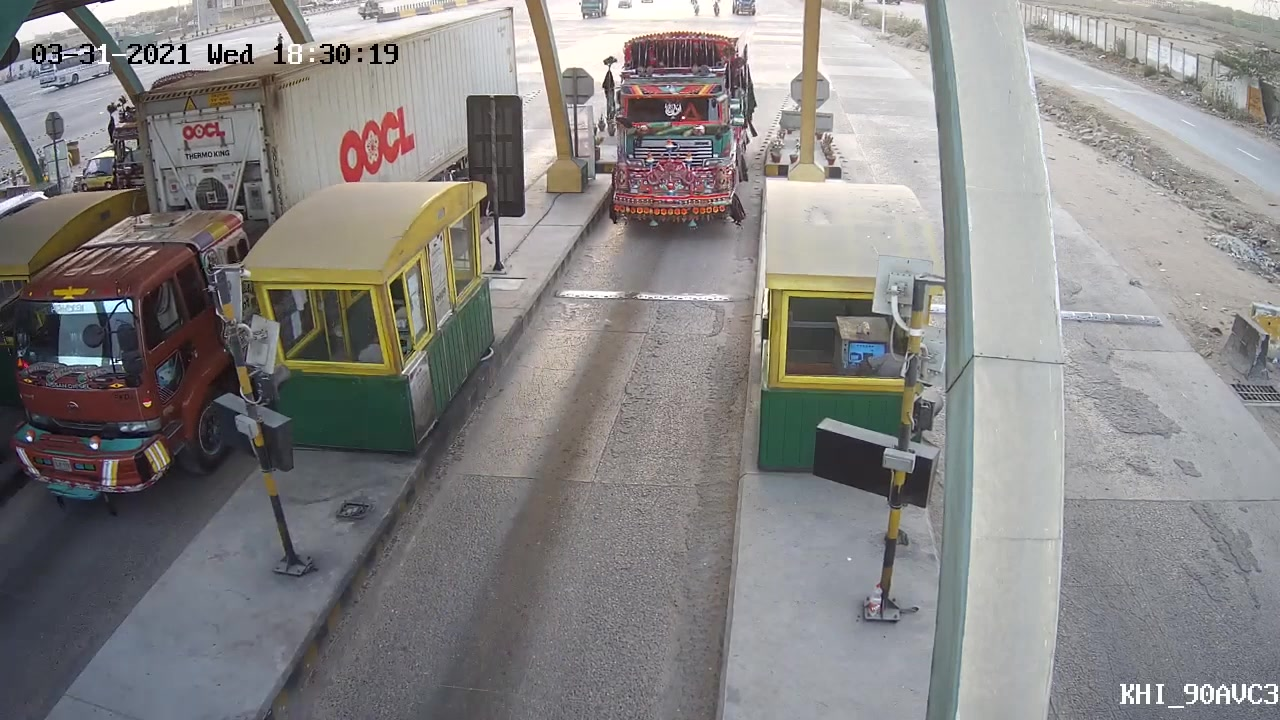F5: (578, 51, 759, 236)
